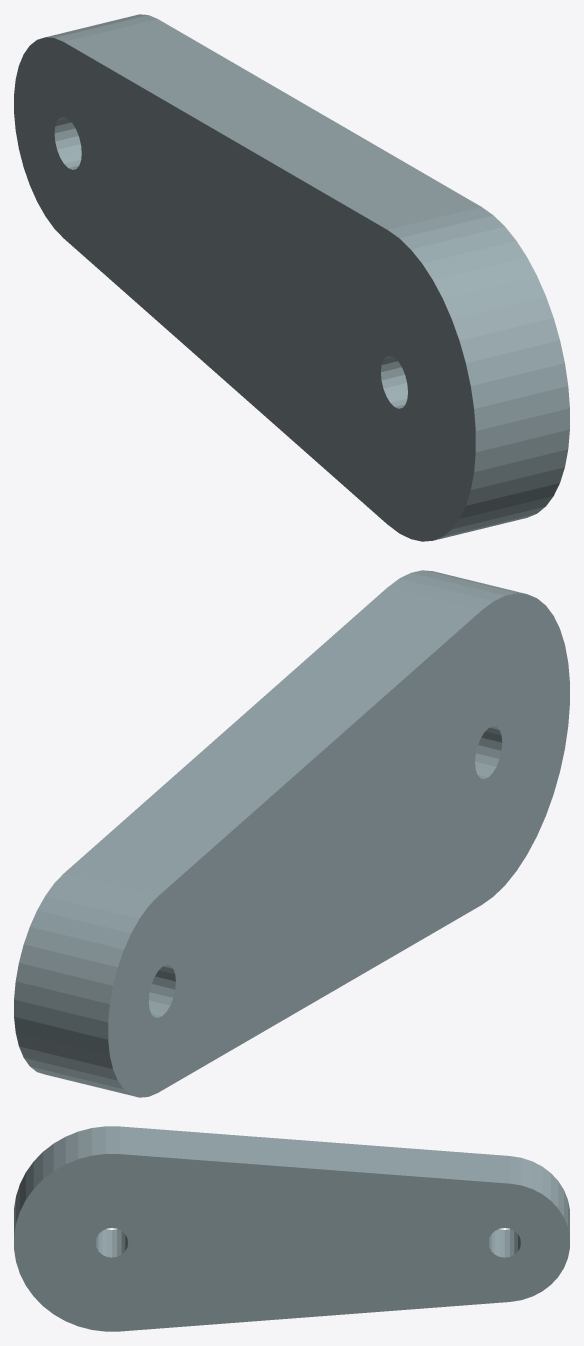
Rendered from Bein - Ledd 1 v2.obj.
3 renders of one model, top to bottom at view 1: azimuth 30°, elevation 25°; view 2: azimuth 150°, elevation 25°; view 3: azimuth 270°, elevation 25°, orthographic. The views are drawn at different scales.
Parts seen in each view (by area): view 1: Bein___Ledd_1_v2; view 2: Bein___Ledd_1_v2; view 3: Bein___Ledd_1_v2.
Boxes of the visible parts, x1,y1,x2,y2 form: Bein___Ledd_1_v2: (14,14,569,541); Bein___Ledd_1_v2: (14,570,569,1097); Bein___Ledd_1_v2: (14,1126,569,1331).
Size of the model in its own units: 20 by 59.89 by 170.
